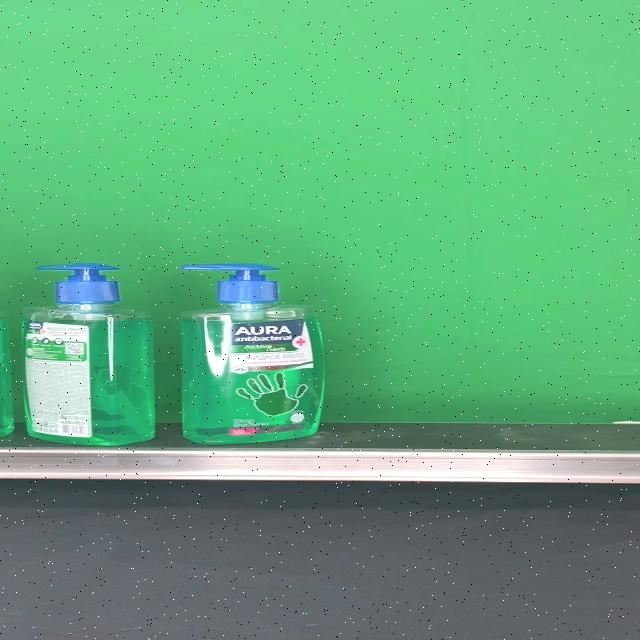Bottle: (180, 264, 325, 445), (21, 263, 155, 446)
Cap: (182, 264, 278, 306), (36, 263, 120, 305)
